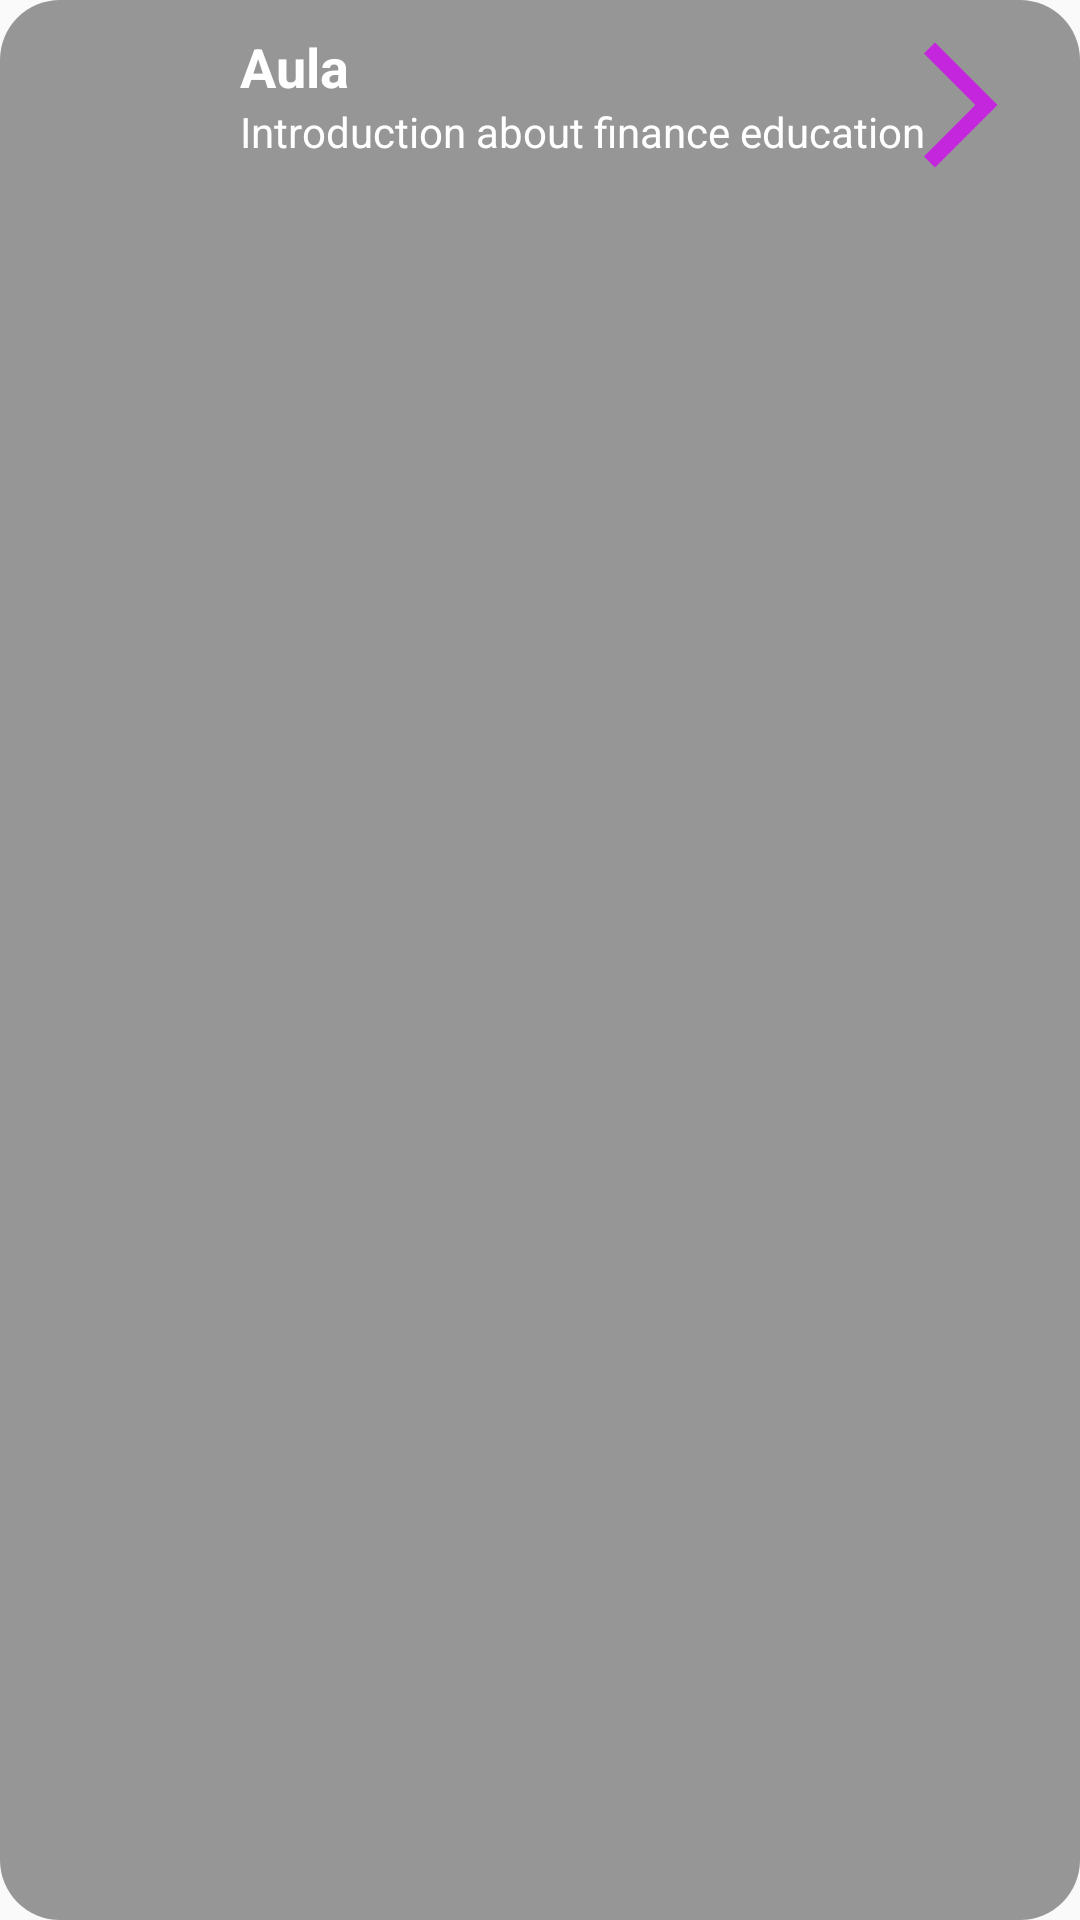

Where icons sit on this 1080px x 1920px app screen, as [x1,y1,x2,y2]:
Seta: [885,43,997,167]
